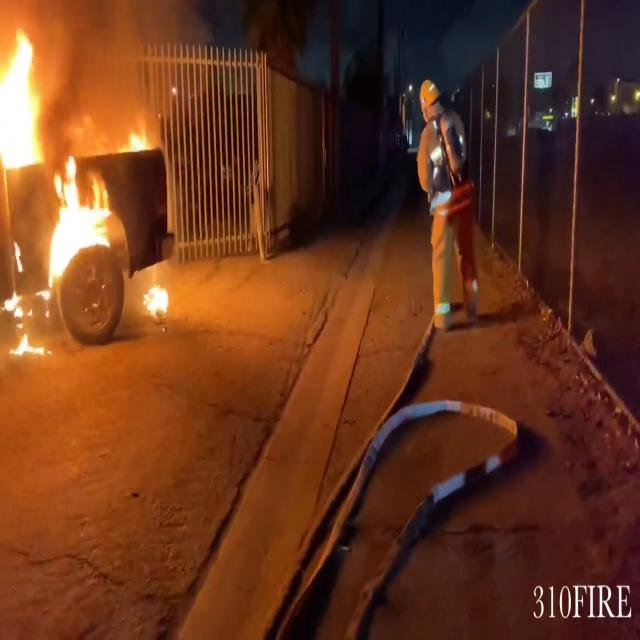Fire: (0, 21, 118, 330), (0, 26, 50, 177), (142, 276, 174, 318)
